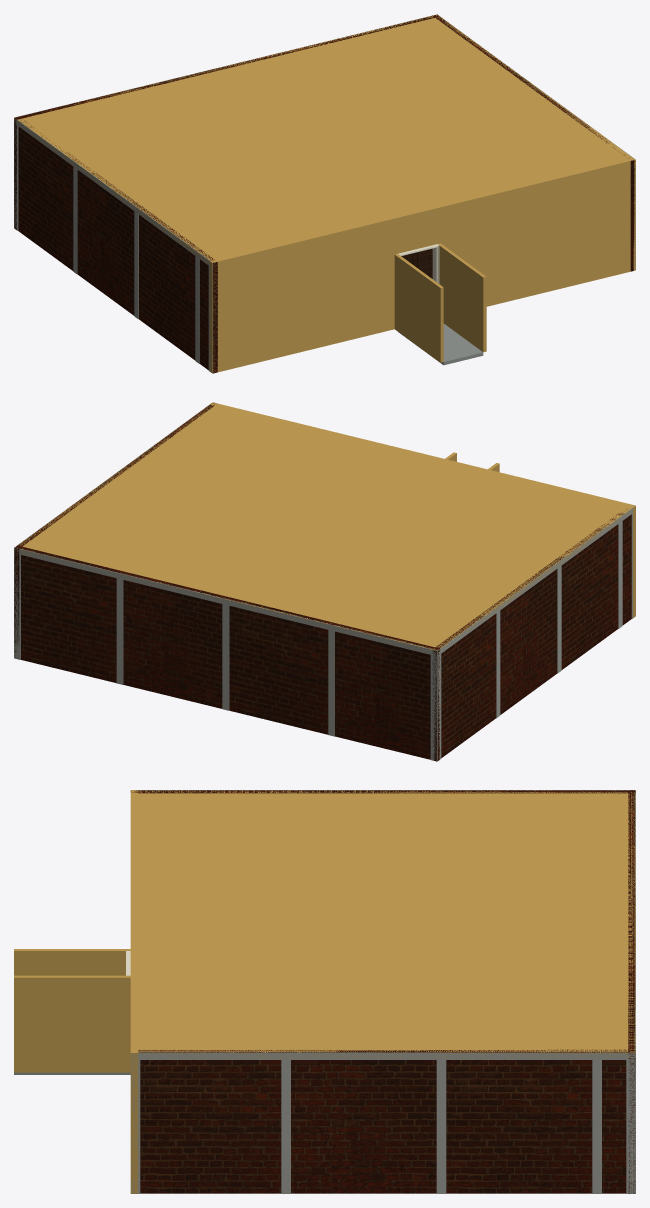
File: building.glb
3 views of the same model, one above another, from view 1: azimuth 30°, elevation 25°; view 2: azimuth 150°, elevation 25°; view 3: azimuth 270°, elevation 25° (orthographic). The views are drawn at different scales.
Visible parts, largest first — view 1: roof/house:0/roof_slab#0001, house:0/edge0/z0/house:0/edge0/z0/wall_0_0, house:0/edge3/z0/house:0/edge3/z0/wall_0_0, entrance/paso_zaguan/entrance_side#0001, entrance/paso_zaguan/entrance_side#0002, house:0/edge2/z0/house:0/edge2/z0/wall_0_0, house:0/edge1/z0/house:0/edge1/z0/wall_0_0, house:0/edge3/z0/house:0/edge3/z0/beam_0_0, entrance/paso_zaguan/entrance_passage#0001, house:0/edge3/z0/house:0/edge3/z0/column_3_0, house:0/edge3/z0/house:0/edge3/z0/column_4_0, house:0/edge3/z0/house:0/edge3/z0/column_2_0; view 2: roof/house:0/roof_slab#0001, house:0/edge2/z0/house:0/edge2/z0/wall_0_0, house:0/edge3/z0/house:0/edge3/z0/wall_0_0, house:0/edge2/z0/house:0/edge2/z0/beam_0_0, house:0/edge0/z0/house:0/edge0/z0/wall_0_0, house:0/edge1/z0/house:0/edge1/z0/wall_0_0, house:0/edge3/z0/house:0/edge3/z0/beam_0_0, house:0/edge2/z0/house:0/edge2/z0/column_3_0, house:0/edge2/z0/house:0/edge2/z0/column_2_0, house:0/edge2/z0/house:0/edge2/z0/column_1_0, house:0/edge2/z0/house:0/edge2/z0/column_4_0, house:0/edge2/z0/house:0/edge2/z0/column_0_0 (+3 smaller); view 3: roof/house:0/roof_slab#0001, house:0/edge1/z0/house:0/edge1/z0/wall_0_0, entrance/paso_zaguan/entrance_side#0002, house:0/edge1/z0/house:0/edge1/z0/beam_0_0, house:0/edge0/z0/house:0/edge0/z0/wall_0_0, entrance/paso_zaguan/entrance_side#0001, house:0/edge2/z0/house:0/edge2/z0/wall_0_0, house:0/edge3/z0/house:0/edge3/z0/wall_0_0, house:0/edge1/z0/house:0/edge1/z0/column_3_0, house:0/edge1/z0/house:0/edge1/z0/column_1_0, house:0/edge1/z0/house:0/edge1/z0/column_2_0, house:0/edge1/z0/house:0/edge1/z0/column_4_0 (+1 smaller).
Part boxes in pixels (<box>): roof/house:0/roof_slab#0001: <box>14,14,632,266</box>; house:0/edge0/z0/house:0/edge0/z0/wall_0_0: <box>209,157,635,373</box>; house:0/edge3/z0/house:0/edge3/z0/wall_0_0: <box>18,120,217,373</box>; entrance/paso_zaguan/entrance_side#0001: <box>394,254,443,362</box>; entrance/paso_zaguan/entrance_side#0002: <box>438,243,486,352</box>; house:0/edge2/z0/house:0/edge2/z0/wall_0_0: <box>14,14,439,229</box>; house:0/edge1/z0/house:0/edge1/z0/wall_0_0: <box>432,14,634,271</box>; house:0/edge3/z0/house:0/edge3/z0/beam_0_0: <box>14,118,212,267</box>; entrance/paso_zaguan/entrance_passage#0001: <box>398,323,483,365</box>; house:0/edge3/z0/house:0/edge3/z0/column_3_0: <box>134,211,138,318</box>; house:0/edge3/z0/house:0/edge3/z0/column_4_0: <box>195,256,199,363</box>; house:0/edge3/z0/house:0/edge3/z0/column_2_0: <box>73,167,77,273</box>; roof/house:0/roof_slab#0001: <box>16,403,634,652</box>; house:0/edge2/z0/house:0/edge2/z0/wall_0_0: <box>15,545,440,760</box>; house:0/edge3/z0/house:0/edge3/z0/wall_0_0: <box>432,509,631,761</box>; house:0/edge2/z0/house:0/edge2/z0/beam_0_0: <box>14,547,437,656</box>; house:0/edge0/z0/house:0/edge0/z0/wall_0_0: <box>210,402,635,618</box>; house:0/edge1/z0/house:0/edge1/z0/wall_0_0: <box>14,402,214,658</box>; house:0/edge3/z0/house:0/edge3/z0/beam_0_0: <box>437,507,632,656</box>; house:0/edge2/z0/house:0/edge2/z0/column_3_0: <box>222,604,229,710</box>; house:0/edge2/z0/house:0/edge2/z0/column_2_0: <box>116,578,123,684</box>; house:0/edge2/z0/house:0/edge2/z0/column_1_0: <box>430,655,437,761</box>; house:0/edge2/z0/house:0/edge2/z0/column_4_0: <box>328,630,334,736</box>; house:0/edge2/z0/house:0/edge2/z0/column_0_0: <box>14,553,20,659</box>; roof/house:0/roof_slab#0001: <box>130,790,635,1057</box>; house:0/edge1/z0/house:0/edge1/z0/wall_0_0: <box>138,1049,635,1193</box>; entrance/paso_zaguan/entrance_side#0002: <box>14,975,130,1072</box>; house:0/edge1/z0/house:0/edge1/z0/beam_0_0: <box>130,1052,635,1059</box>; house:0/edge0/z0/house:0/edge0/z0/wall_0_0: <box>130,790,138,1193</box>; entrance/paso_zaguan/entrance_side#0001: <box>14,949,130,975</box>; house:0/edge2/z0/house:0/edge2/z0/wall_0_0: <box>628,790,635,1193</box>; house:0/edge3/z0/house:0/edge3/z0/wall_0_0: <box>130,790,635,793</box>; house:0/edge1/z0/house:0/edge1/z0/column_3_0: <box>436,1060,446,1193</box>; house:0/edge1/z0/house:0/edge1/z0/column_1_0: <box>626,1060,635,1193</box>; house:0/edge1/z0/house:0/edge1/z0/column_2_0: <box>281,1060,290,1193</box>; house:0/edge1/z0/house:0/edge1/z0/column_4_0: <box>592,1060,601,1193</box>.
Bounding box in the file's own units: 16 × 4.12 × 16.
7 materials, 2 textured.
